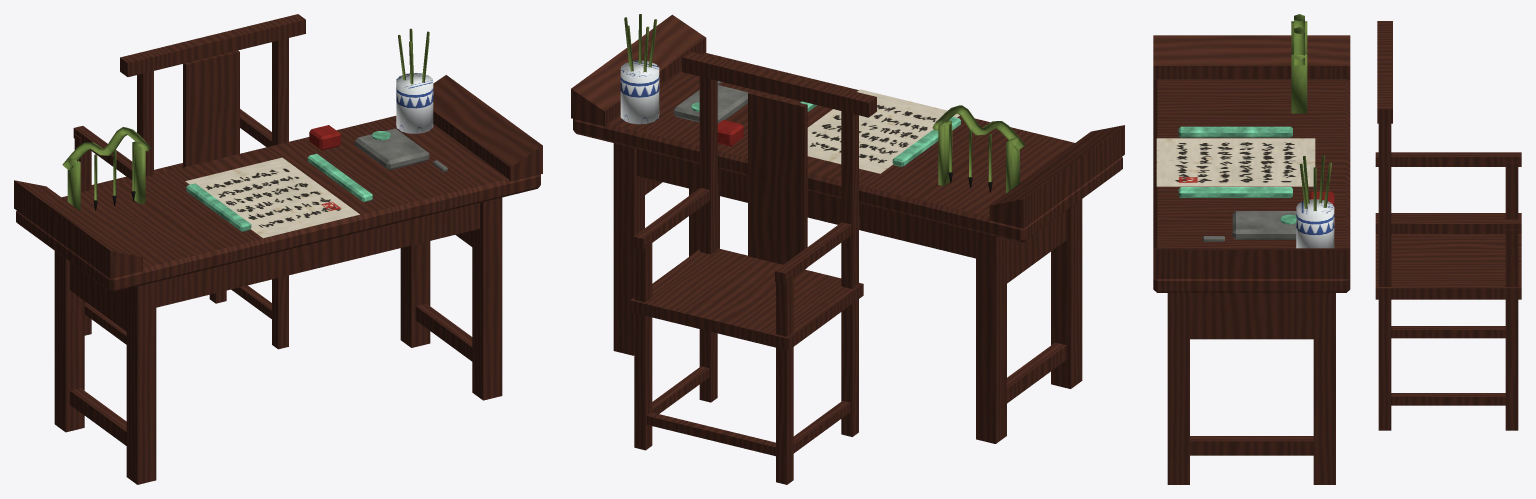
File: calligraphy_table.glb
3 renders of one model, left to right at view 1: azimuth 30°, elevation 25°; view 2: azimuth 150°, elevation 25°; view 3: azimuth 270°, elevation 25°, orthographic. The views are drawn at different scales.
Visible parts, largest first — view 1: Desk, Chair, Calligraphy, Brushes, BrushPot, Paperweights, InkStone, SealBox; view 2: Desk, Chair, Calligraphy, Brushes, BrushPot, InkStone, Paperweights, SealBox; view 3: Desk, Chair, Calligraphy, Paperweights, Brushes, InkStone, BrushPot.
Part boxes in pixels (<box>): Desk: <box>14,75,542,484</box>; Chair: <box>73,14,305,349</box>; Calligraphy: <box>185,157,359,238</box>; Brushes: <box>62,28,429,210</box>; BrushPot: <box>396,73,433,133</box>; Paperweights: <box>186,131,390,231</box>; InkStone: <box>355,128,447,172</box>; SealBox: <box>309,125,340,150</box>; Desk: <box>571,14,1124,443</box>; Chair: <box>630,51,876,484</box>; Calligraphy: <box>807,89,959,173</box>; Brushes: <box>624,14,1025,193</box>; BrushPot: <box>620,60,659,124</box>; InkStone: <box>673,81,748,123</box>; Paperweights: <box>691,101,960,167</box>; SealBox: <box>717,120,743,146</box>; Desk: <box>1153,35,1350,484</box>; Chair: <box>1375,21,1521,430</box>; Calligraphy: <box>1156,138,1315,186</box>; Paperweights: <box>1178,126,1296,224</box>; Brushes: <box>1291,14,1331,211</box>; InkStone: <box>1202,211,1296,241</box>; BrushPot: <box>1296,199,1334,248</box>.
Size of what is drawn, in the model's own units: 1.6 by 1.14 by 1.16.
8 materials, 7 textured.
